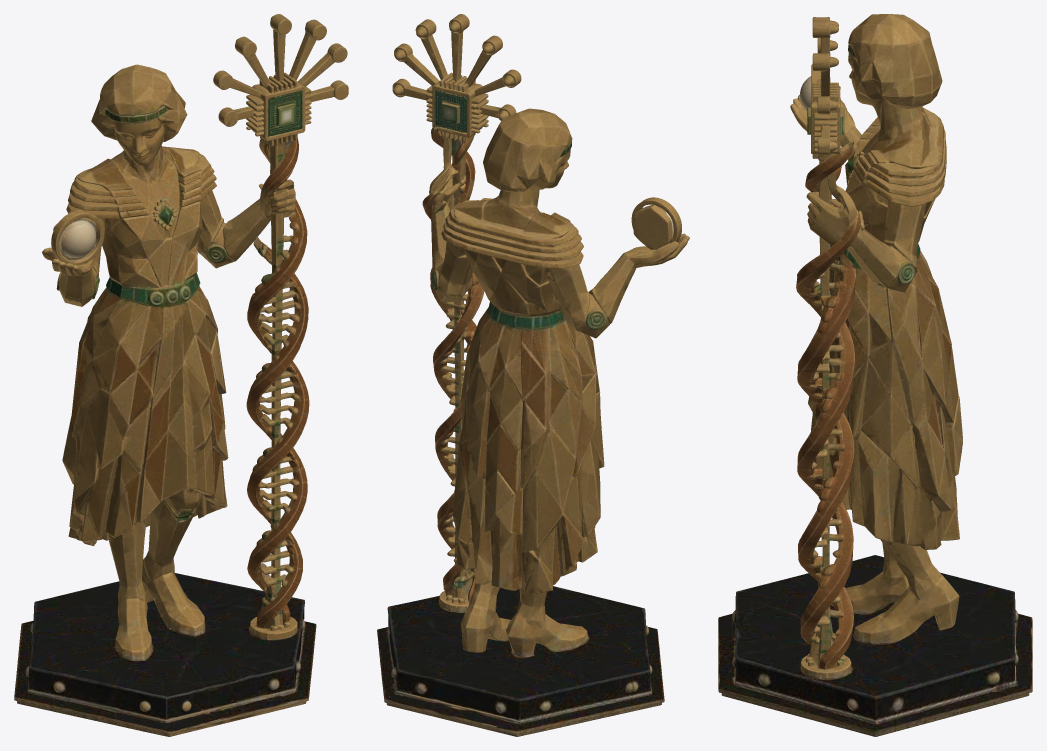
File: life.glb
3 views of the same model, side by side, from view 1: azimuth 30°, elevation 25°; view 2: azimuth 150°, elevation 25°; view 3: azimuth 270°, elevation 25° (orthographic). The views are drawn at different scales.
Bounding box in the file's own units: 0.9468 × 1.9 × 0.7899.
Materials: 1 (1 with a texture image).
